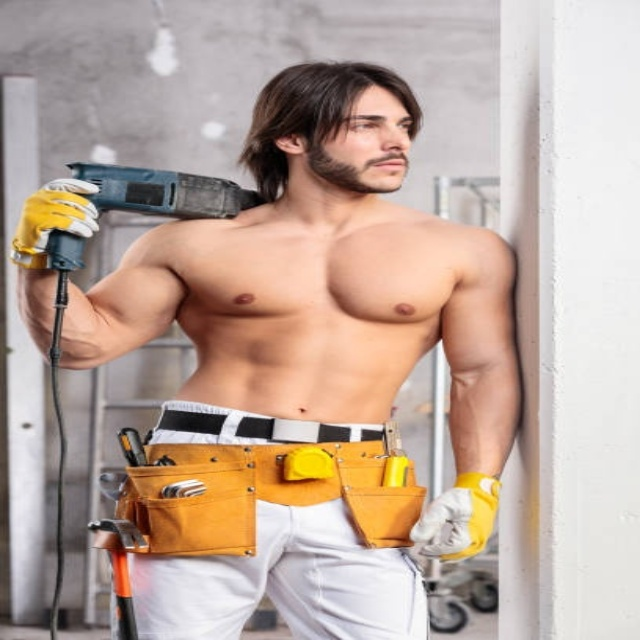Guantes: (9, 179, 101, 270), (407, 476, 502, 560)
Sin_gafas: (345, 113, 416, 136)
Sin_mascara: (356, 155, 413, 181)
